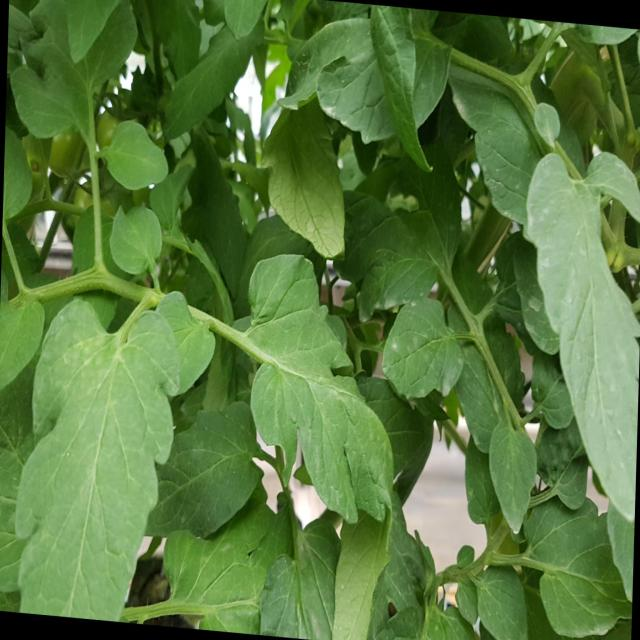Healthy Leaf: (14, 298, 185, 619), (243, 252, 396, 553), (381, 296, 468, 407), (489, 417, 541, 541), (106, 119, 174, 196), (110, 201, 166, 278)
